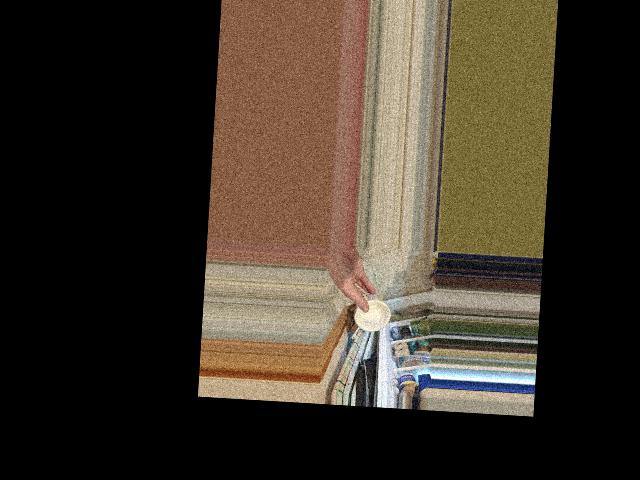cotage: (350, 289, 387, 334)
